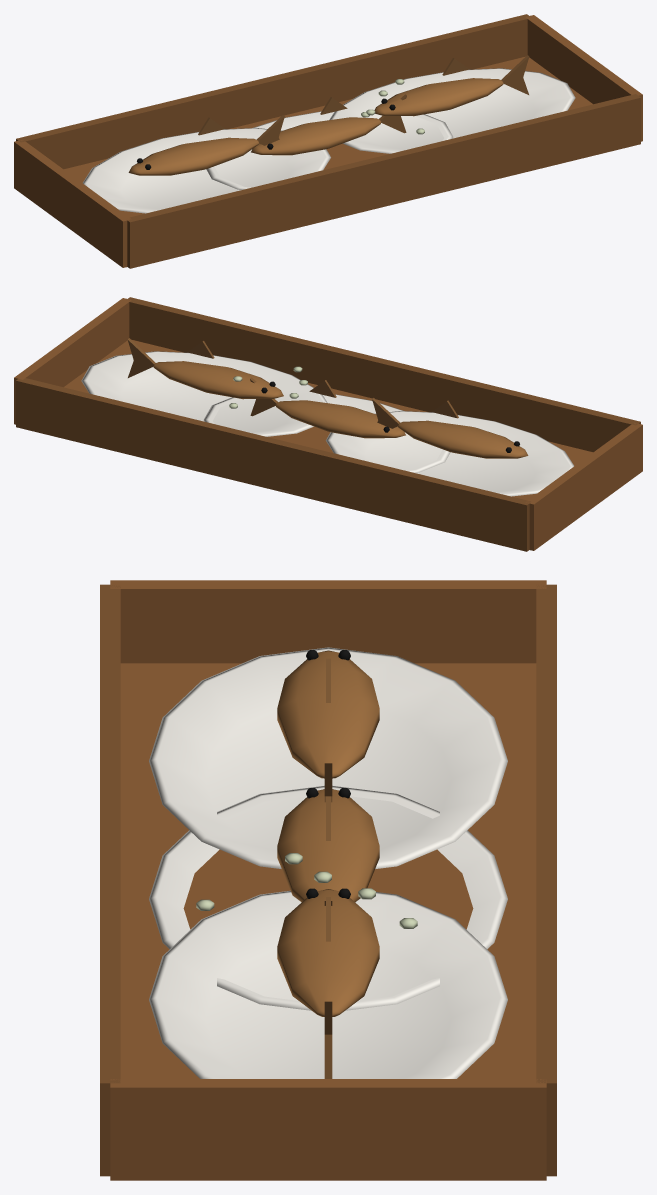
The model's file is Fish_Grilled.fbx.
3 renders of one model, top to bottom at view 1: azimuth 30°, elevation 25°; view 2: azimuth 150°, elevation 25°; view 3: azimuth 270°, elevation 25°, orthographic. The views are drawn at different scales.
Parts seen in each view (by area): view 1: Fish_Grilled__Stack, Fish_Grilled; view 2: Fish_Grilled__Stack, Fish_Grilled; view 3: Fish_Grilled__Stack, Fish_Grilled, Fish_Grilled__Rotten.
Part boxes in pixels (<box>): Fish_Grilled__Stack: <box>14,14,642,268</box>; Fish_Grilled: <box>206,94,453,189</box>; Fish_Grilled__Stack: <box>14,297,642,551</box>; Fish_Grilled: <box>203,377,450,472</box>; Fish_Grilled__Stack: <box>100,580,556,1180</box>; Fish_Grilled: <box>149,785,507,1010</box>; Fish_Grilled__Rotten: <box>196,853,417,928</box>.
Bounding box in the file's own units: 0.468 × 0.0655 × 0.178.
